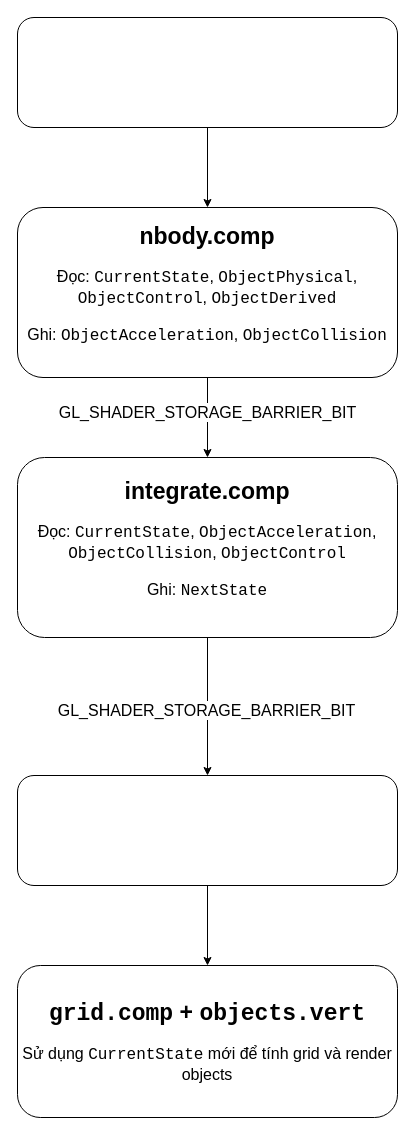
Some shapes in this 415 by 1135 pixel diagram are drawn without their labels. The shapes that lost their labels are listed below. From the top down, each one's box as (x1, y1, x2, y2) in pixels, then its label:
(16, 16, 398, 128): CPU — RunObjectStateSync() Ghi các dữ liệu đầu vào có thay đổi
(16, 774, 398, 886): SwapCurrentNext() Hoán đổi các GPU buffer handle tương ứng với hai role
